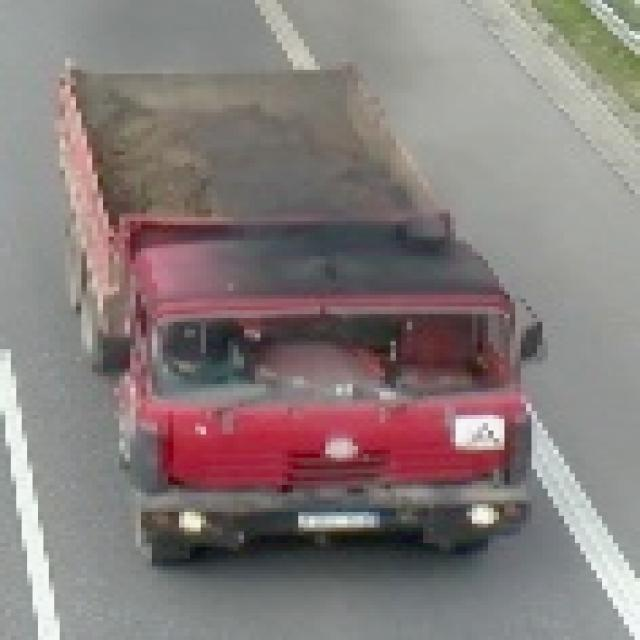truck: (44, 55, 538, 571)
